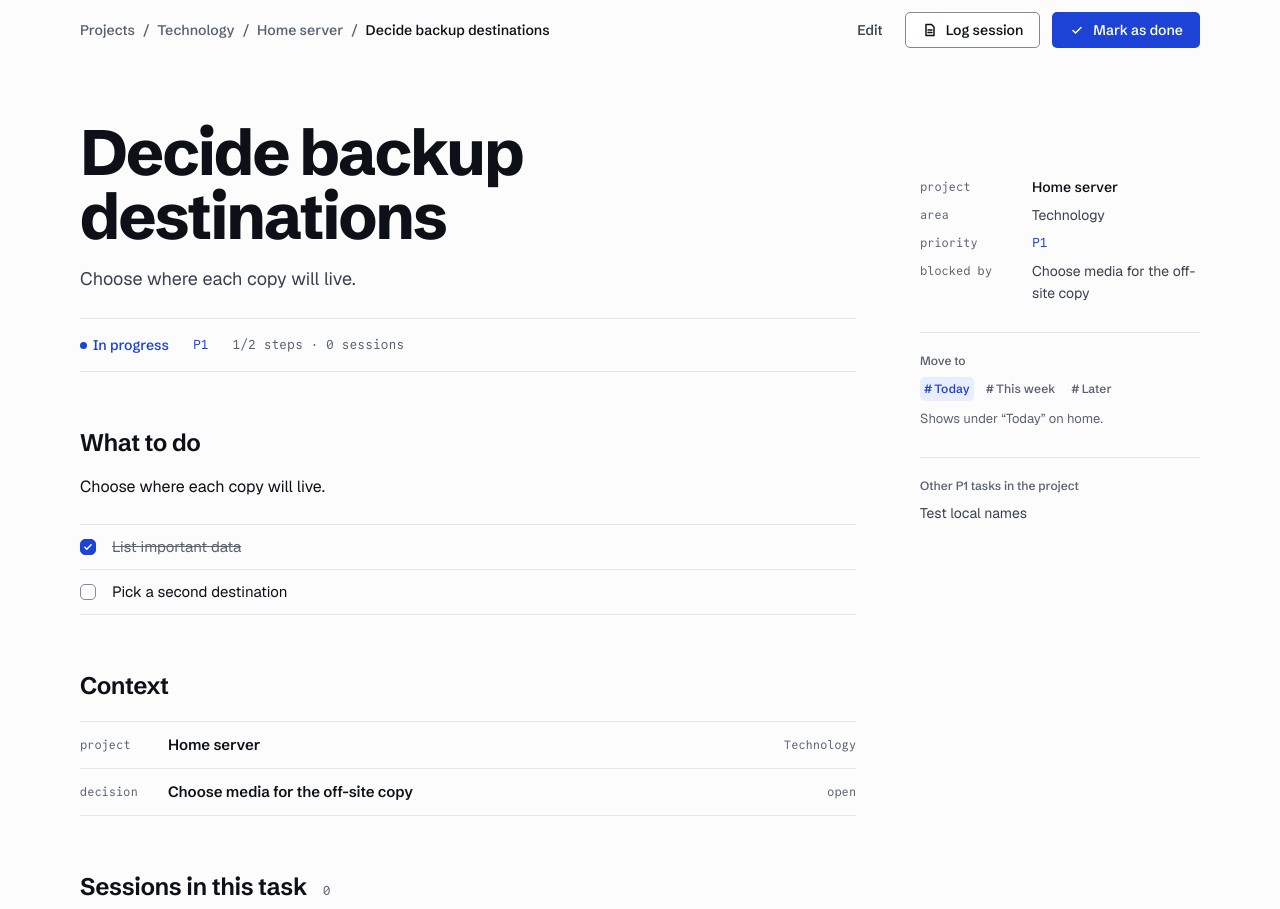
Test: task view writing to its source › leaves the step as it was and says so when the tick fails
This screenshot has width=1280, height=909.
Click the button with class "step" showing "Pick a second destination": (200, 592) [80, 570, 856, 615]
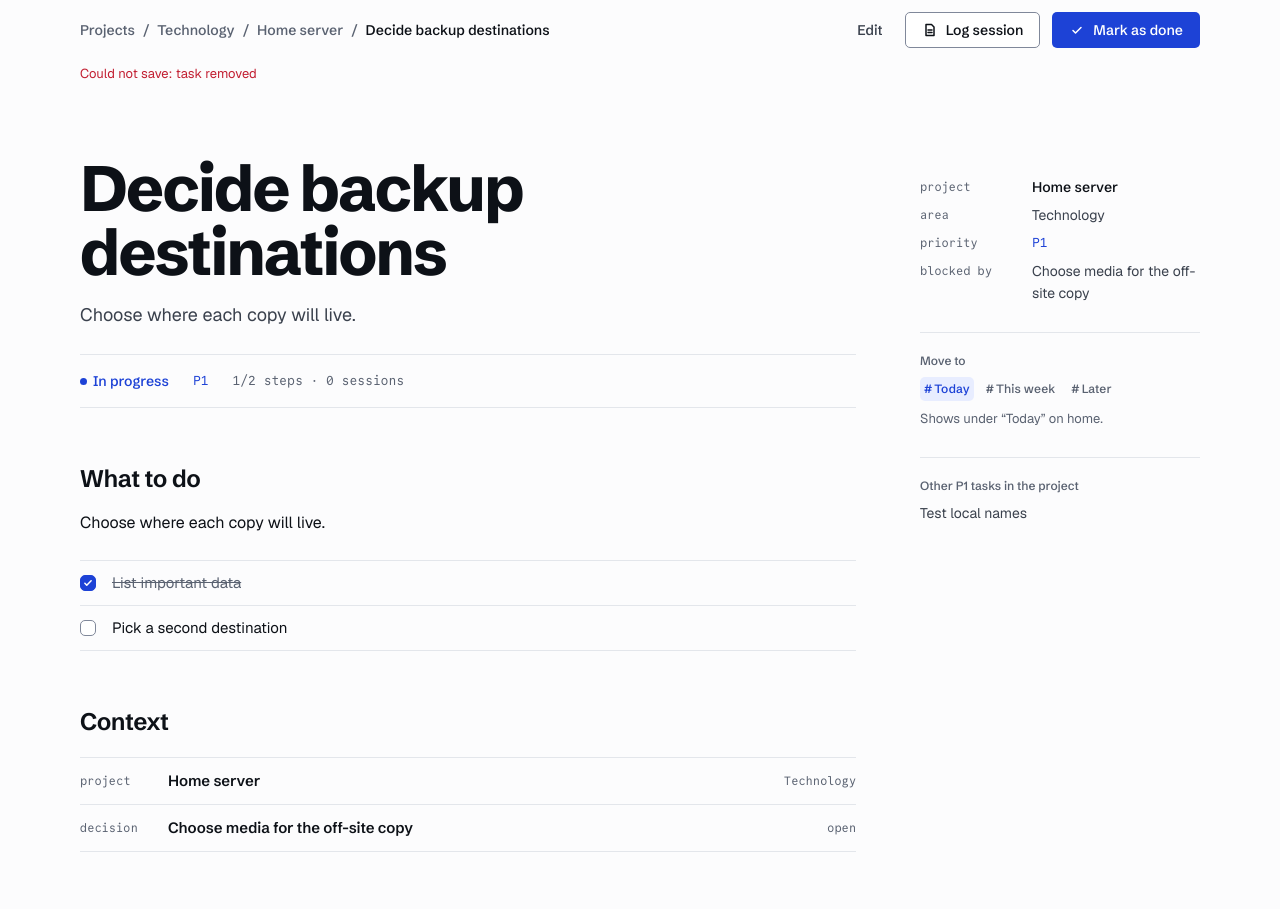
Result: the message with class "task-write-error" reads "Could not save: task removed" at [80, 65, 257, 82]
